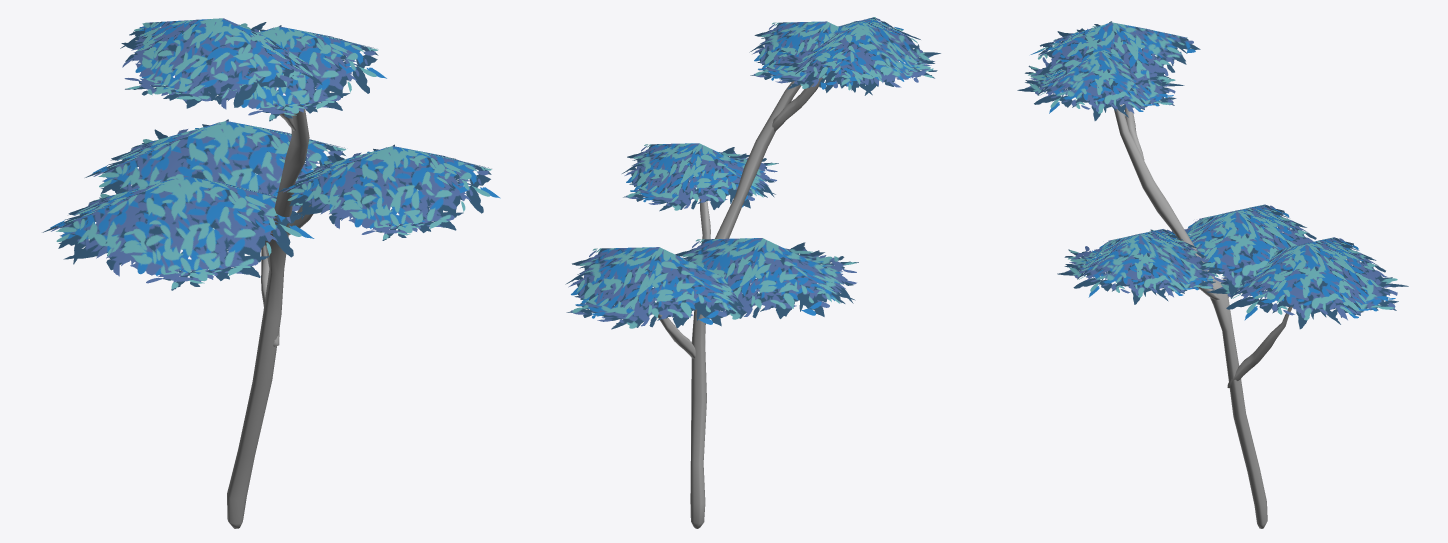
File: blue_tree 1.fbx
3 views of the same model, side by side, from view 1: azimuth 30°, elevation 25°; view 2: azimuth 150°, elevation 25°; view 3: azimuth 270°, elevation 25° (orthographic). The views are drawn at different scales.
Visible parts, largest first — view 1: pPlane115; view 2: pPlane115; view 3: pPlane115.
Boxes of the visible parts, x1,y1,x2,y2 form: pPlane115: (42,18,500,528); pPlane115: (565,17,940,528); pPlane115: (1017,21,1408,528).
Bounding box in the file's own units: 1.59 × 2.17 × 1.85.
